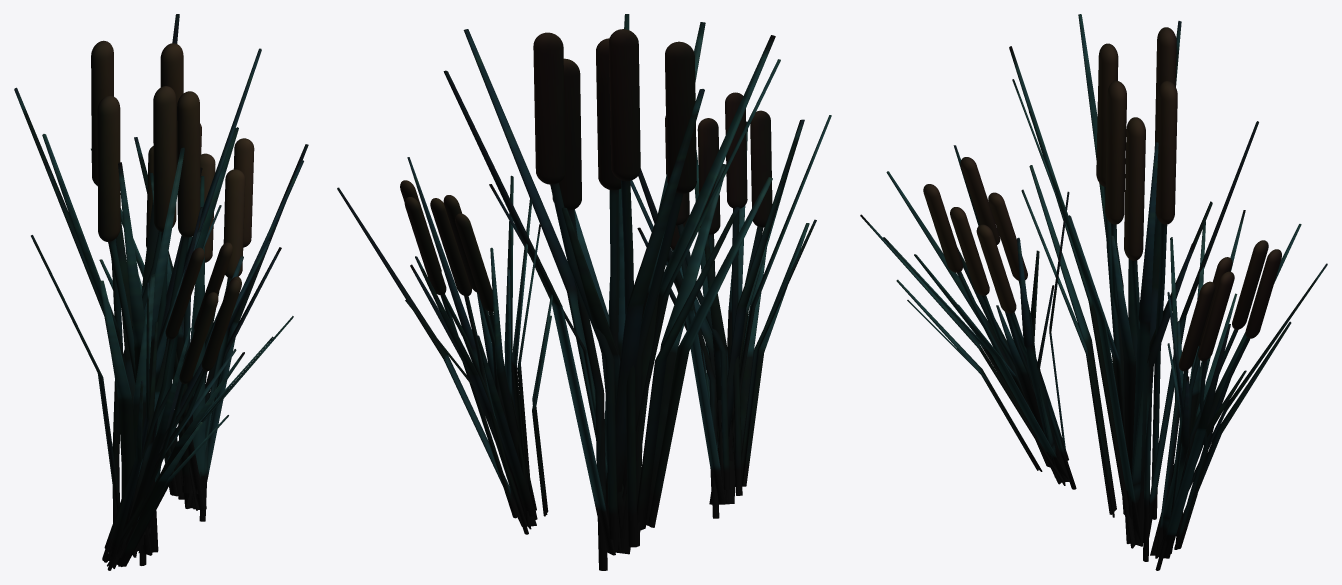
The model's file is Swamp_Reeds.glb.
3 views of the same model, side by side, from view 1: azimuth 30°, elevation 25°; view 2: azimuth 150°, elevation 25°; view 3: azimuth 270°, elevation 25° (orthographic). The views are drawn at different scales.
Visible parts, largest first — view 1: Cube.013; view 2: Cube.013; view 3: Cube.013.
Part boxes in pixels (box(x1,y1,x2,y2)): Cube.013: box(14, 14, 308, 570); Cube.013: box(337, 14, 831, 570); Cube.013: box(860, 14, 1327, 570).
Size of the model in its own units: 41.7 by 61 by 49.94.
1 material, 1 textured.
